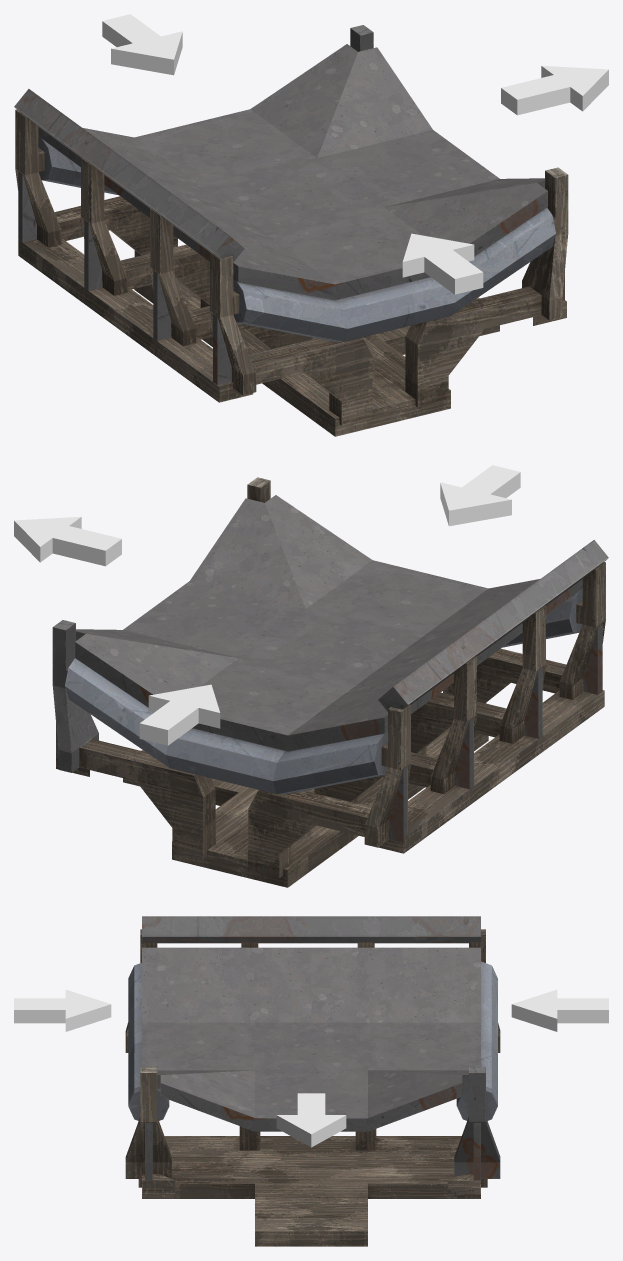
Rendered from ConveyorTCombiner.glb.
3 views of the same model, one above another, from view 1: azimuth 30°, elevation 25°; view 2: azimuth 150°, elevation 25°; view 3: azimuth 270°, elevation 25° (orthographic). The views are drawn at different scales.
Visible parts, largest first — view 1: ConveyorTCombiner, ghostarrow (1), ghostarrow (2), ghostarrow (3); view 2: ConveyorTCombiner, ghostarrow (1), ghostarrow (3), ghostarrow (2); view 3: ConveyorTCombiner, ghostarrow (2), ghostarrow (3), ghostarrow (1).
Part boxes in pixels (x1,y1,x2,y2): ConveyorTCombiner: (14, 25, 568, 436); ghostarrow (1): (501, 65, 608, 115); ghostarrow (2): (402, 233, 483, 294); ghostarrow (3): (102, 14, 182, 75); ConveyorTCombiner: (52, 477, 608, 887); ghostarrow (1): (14, 516, 121, 566); ghostarrow (3): (139, 684, 220, 745); ghostarrow (2): (440, 465, 520, 526); ConveyorTCombiner: (125, 916, 500, 1246); ghostarrow (2): (14, 989, 111, 1031); ghostarrow (3): (511, 989, 608, 1031); ghostarrow (1): (276, 1093, 346, 1147).
Size of the model in its own units: 1.42 by 0.6235 by 1.76.
4 materials, 2 textured.
